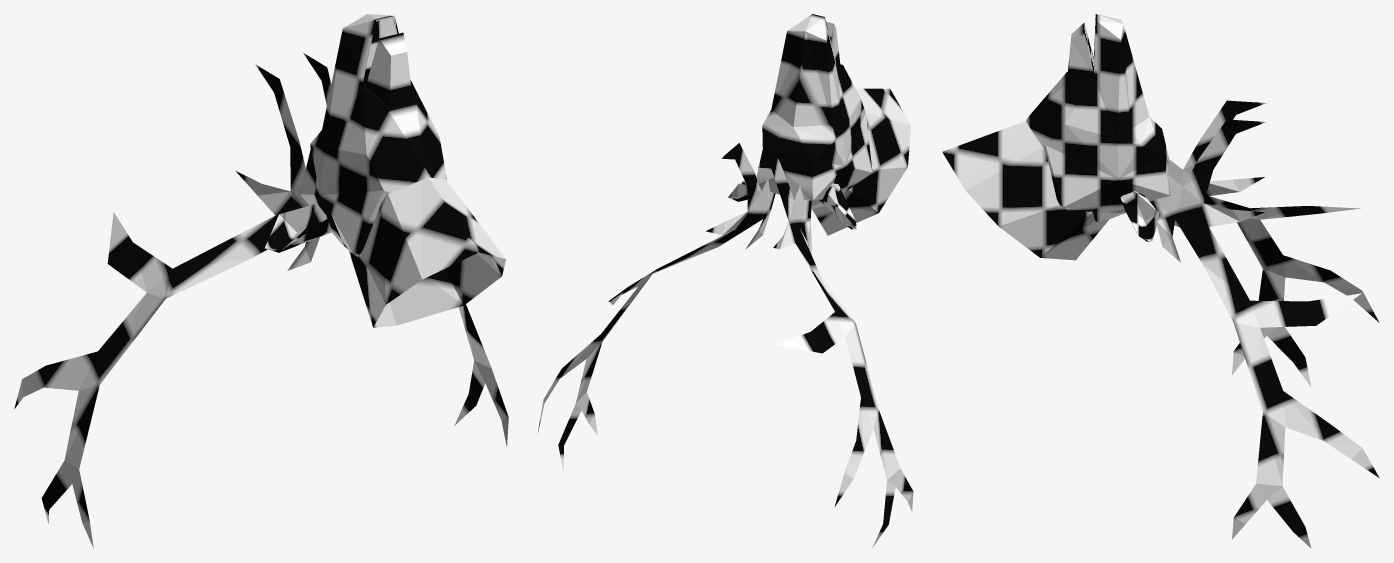
Rendered from infaunanwide.dae.
The picture shows the model from 3 angles, left to right: view 1: azimuth 30°, elevation 25°; view 2: azimuth 150°, elevation 25°; view 3: azimuth 270°, elevation 25°; orthographic projection. The views are drawn at different scales.
Visible parts, largest first — view 1: face; view 2: face; view 3: face.
Part boxes in pixels (x1,y1,x2,y2): face: (14, 14, 508, 547); face: (537, 14, 913, 547); face: (942, 14, 1379, 548).
Bounding box in the file's own units: 1.88 × 2.05 × 2.34.
1 material, 1 textured.
